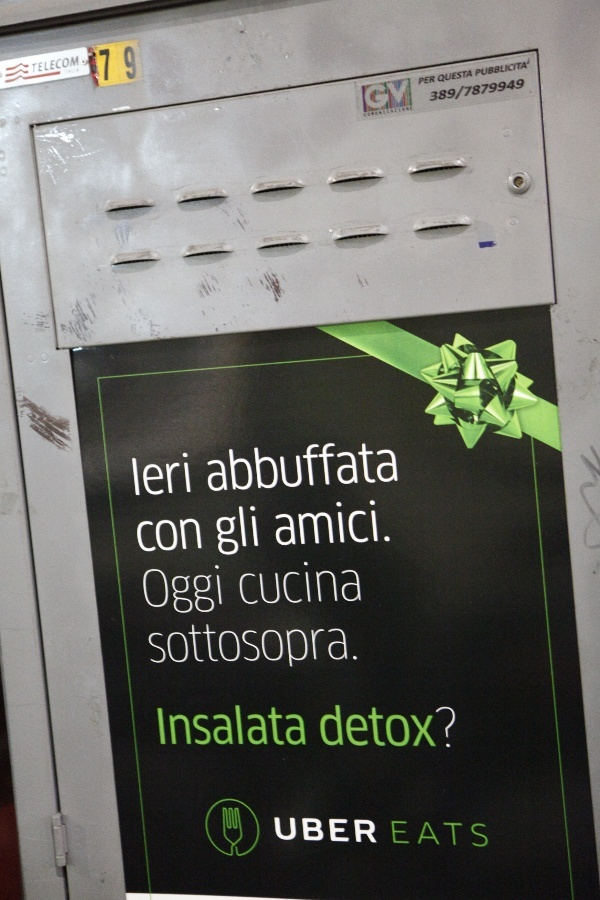text: (385, 436, 401, 496), (225, 500, 240, 563), (241, 500, 256, 563), (209, 564, 225, 622), (209, 436, 224, 496), (225, 436, 240, 496), (241, 436, 256, 496), (257, 436, 272, 496), (273, 436, 288, 496), (289, 436, 304, 496), (305, 436, 320, 496), (321, 436, 336, 496), (337, 436, 352, 496), (353, 436, 368, 496), (369, 436, 384, 496), (145, 564, 160, 622), (161, 564, 176, 622), (177, 564, 192, 622), (193, 564, 208, 622), (289, 495, 304, 550), (305, 495, 320, 550), (321, 495, 336, 550), (337, 495, 352, 550), (353, 495, 368, 550), (369, 495, 384, 550), (241, 558, 256, 610), (257, 558, 272, 610), (273, 558, 288, 610), (289, 558, 304, 610), (305, 558, 320, 610), (321, 558, 336, 610), (337, 558, 352, 610), (274, 495, 288, 550), (161, 702, 176, 752), (177, 702, 192, 752), (193, 702, 208, 752), (209, 702, 224, 752), (225, 702, 240, 752), (241, 702, 256, 752), (257, 702, 272, 752), (273, 702, 288, 752), (289, 702, 304, 752), (161, 623, 176, 672), (177, 623, 192, 672), (193, 623, 208, 672), (209, 623, 224, 672), (225, 623, 240, 672), (241, 623, 256, 672), (257, 623, 272, 672), (273, 623, 288, 672), (289, 623, 304, 672), (305, 623, 320, 672), (321, 623, 336, 672), (337, 623, 352, 672), (321, 704, 336, 753), (337, 704, 352, 753), (353, 704, 368, 753), (369, 704, 384, 753), (385, 704, 400, 753), (401, 704, 416, 753), (417, 704, 432, 753), (433, 704, 448, 753), (145, 452, 160, 497), (161, 452, 176, 497), (177, 452, 192, 497), (145, 515, 160, 557), (161, 515, 176, 557), (177, 515, 192, 557), (148, 623, 160, 672), (353, 623, 365, 672), (353, 558, 364, 610), (215, 500, 224, 563), (132, 452, 144, 497), (369, 78, 384, 113), (385, 78, 400, 113), (385, 495, 394, 550), (273, 815, 288, 848), (289, 815, 304, 848), (305, 815, 320, 848), (321, 815, 336, 848), (337, 815, 352, 848), (353, 815, 368, 848), (401, 817, 416, 850), (417, 817, 432, 850), (433, 817, 448, 850), (449, 817, 464, 850), (465, 817, 480, 850), (193, 515, 204, 557), (433, 75, 448, 105), (449, 75, 464, 105), (465, 75, 480, 105), (481, 75, 496, 105), (497, 75, 512, 105), (99, 49, 112, 82), (449, 704, 457, 753), (135, 515, 144, 557), (513, 75, 525, 105), (401, 78, 411, 113), (129, 45, 138, 83), (390, 817, 400, 850), (369, 815, 378, 848), (481, 817, 490, 850), (33, 56, 48, 74), (49, 56, 64, 74), (449, 68, 464, 86), (481, 60, 496, 78), (497, 60, 512, 78), (513, 60, 528, 78), (65, 56, 79, 74), (257, 500, 261, 563), (156, 702, 160, 752), (123, 45, 128, 83), (438, 68, 448, 86), (141, 564, 144, 622), (419, 75, 432, 87), (305, 702, 308, 752), (465, 68, 473, 86), (364, 78, 368, 113), (206, 436, 208, 496), (238, 558, 240, 610), (476, 60, 480, 78), (430, 75, 432, 105), (319, 704, 320, 753), (433, 75, 436, 87)
